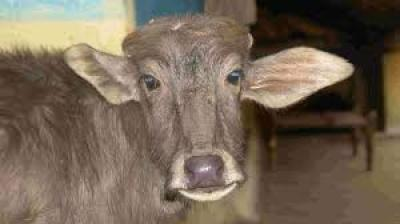buffalo: (0, 18, 355, 224)
